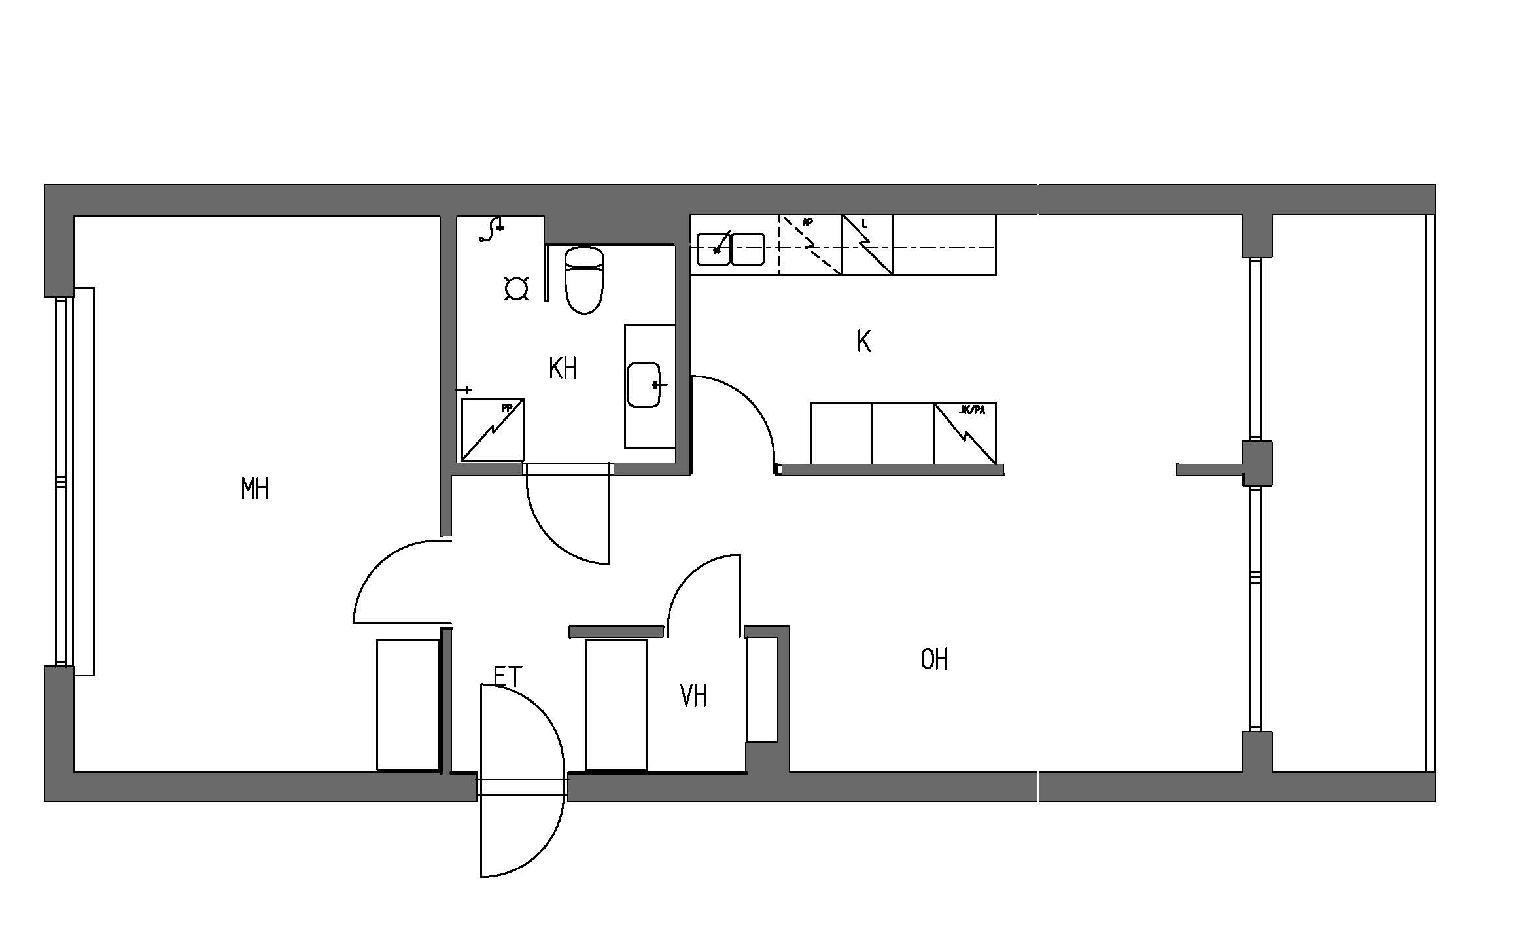door: (454, 210, 1251, 768), (72, 214, 436, 772), (1262, 209, 1432, 773), (457, 212, 680, 459)
window: (474, 679, 566, 880), (523, 462, 621, 574), (346, 536, 454, 630), (667, 549, 755, 647), (687, 378, 778, 473)
zone: (55, 289, 94, 678), (1244, 489, 1267, 730), (1248, 259, 1261, 436)
